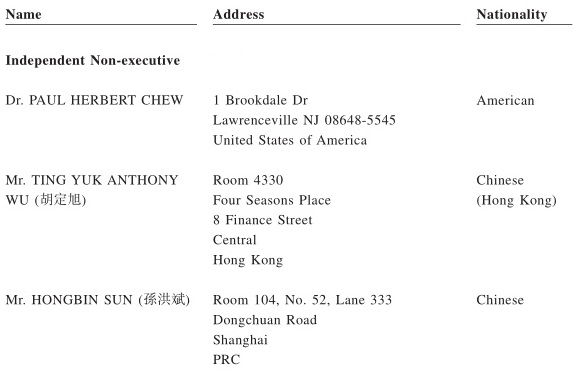column: (5, 1, 191, 373), (212, 1, 396, 373), (476, 1, 557, 373)
row: (1, 191, 575, 208), (1, 7, 575, 23), (1, 254, 575, 269), (1, 53, 575, 67), (1, 172, 575, 186), (1, 233, 575, 247), (1, 292, 575, 306), (1, 314, 575, 328), (1, 334, 575, 348), (1, 134, 575, 147), (1, 214, 575, 227), (1, 94, 575, 106), (1, 114, 575, 126), (1, 353, 575, 365)
